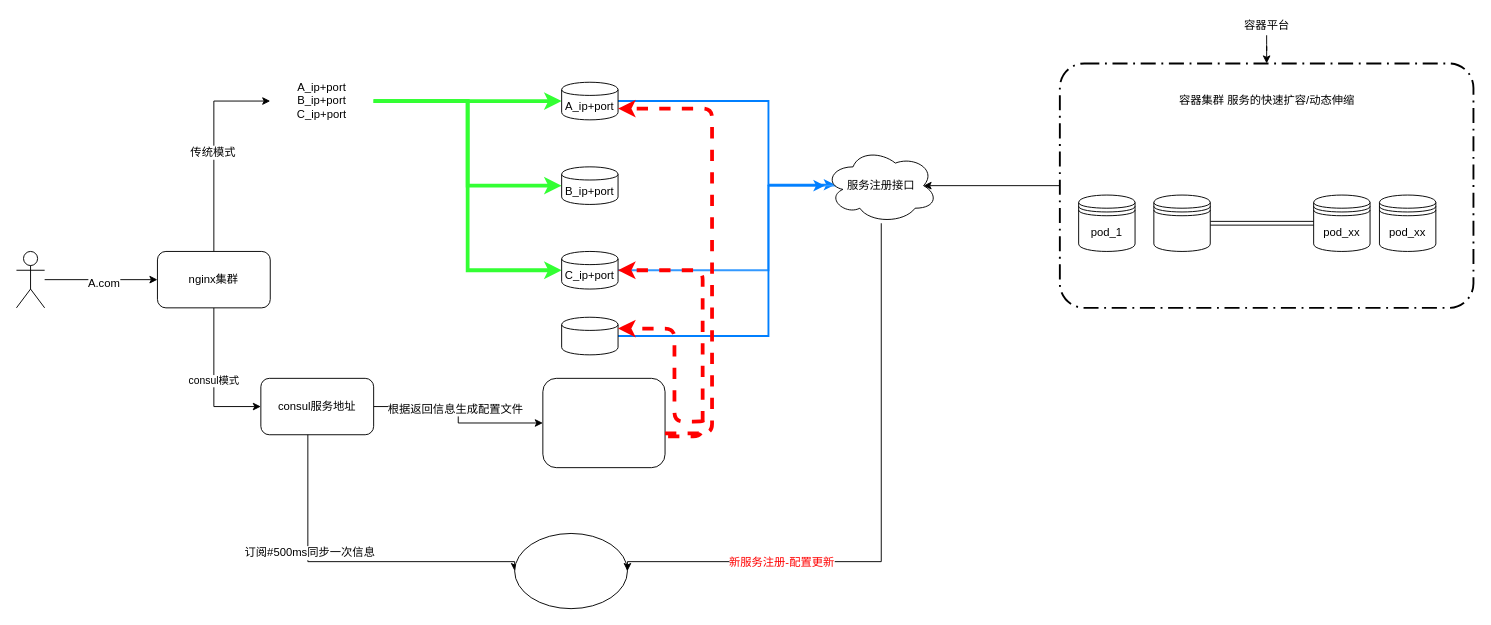
Some shapes in this 1491 by 625 pixel diagram are drawn without their labels. The centre of each missing label's shape, as x and y in pixels:
"A_ip+port C_ip+port D_ip+port pod_1+port ```` pod_11+port" goes at [603,422].
"Actor" goes at [30,279].
"Consul注册中心" goes at [570,571].
"D_ip+port" goes at [589,335].
"pod_2" goes at [1181,222].
